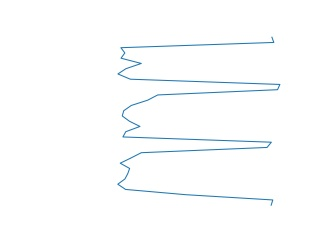majorRiverChannelBar: (115, 38, 284, 205)
